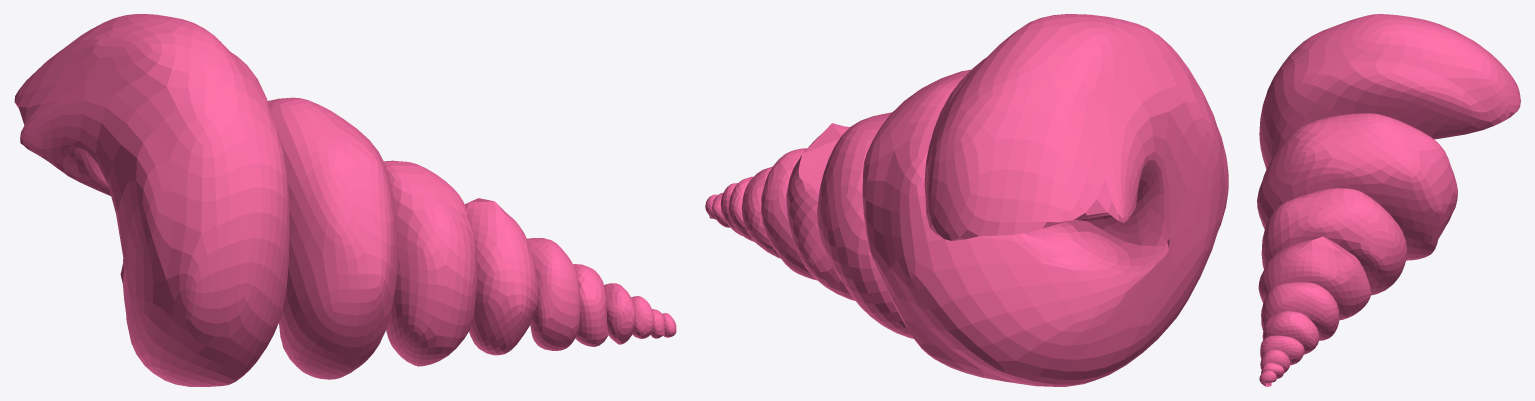
File: big shell.fbx
3 views of the same model, side by side, from view 1: azimuth 30°, elevation 25°; view 2: azimuth 150°, elevation 25°; view 3: azimuth 270°, elevation 25° (orthographic). The views are drawn at different scales.
Visible parts, largest first — view 1: big shell; view 2: big shell; view 3: big shell.
Part boxes in pixels (x1,y1,x2,y2): big shell: (14,14,676,386); big shell: (705,14,1228,386); big shell: (1257,14,1520,386).
Bounding box in the file's own units: 19.89 × 12.53 × 12.9.
